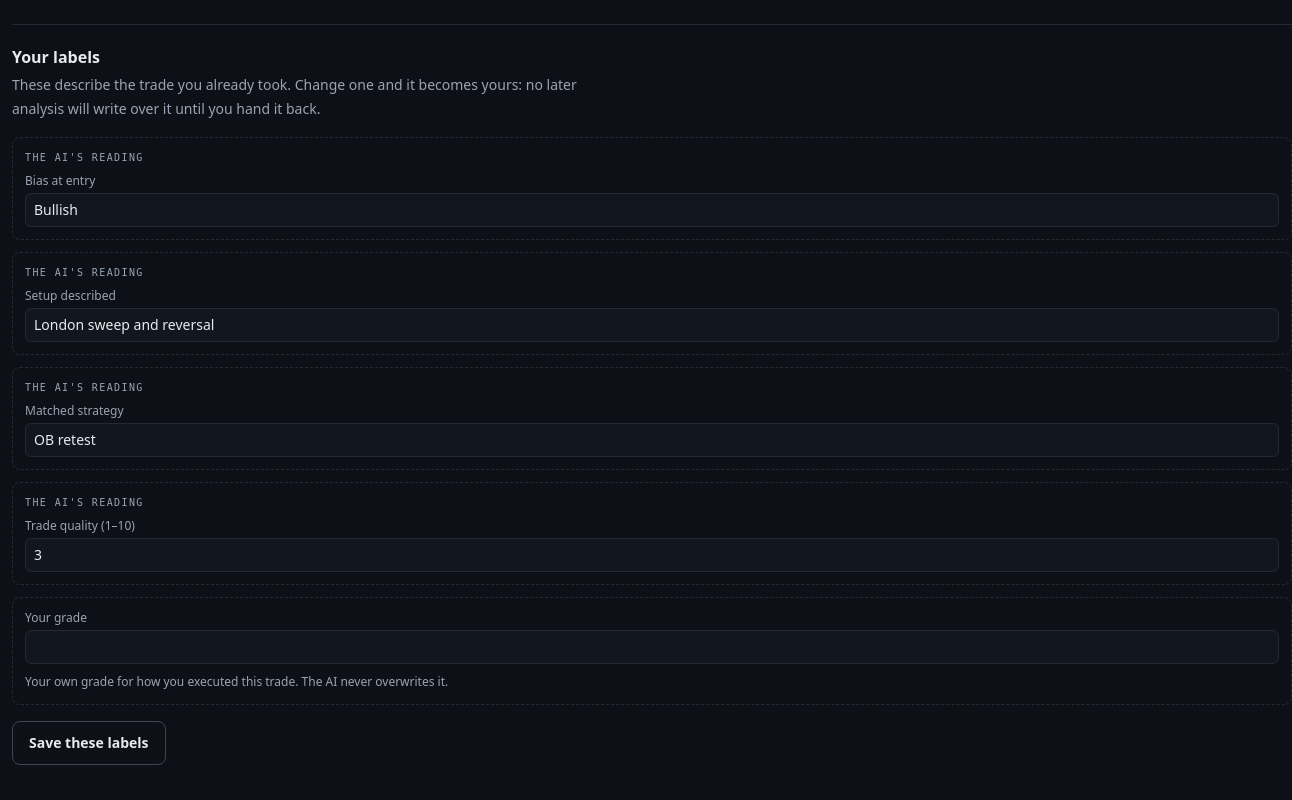
Scenario: AILabelReview › shows the backend's actionable conflict detail without exposing arbitrary errors
Step 1. Replace the text in the field labelled "Bias at entry" with "Bearish" → (652, 210), box [25, 193, 1279, 227]
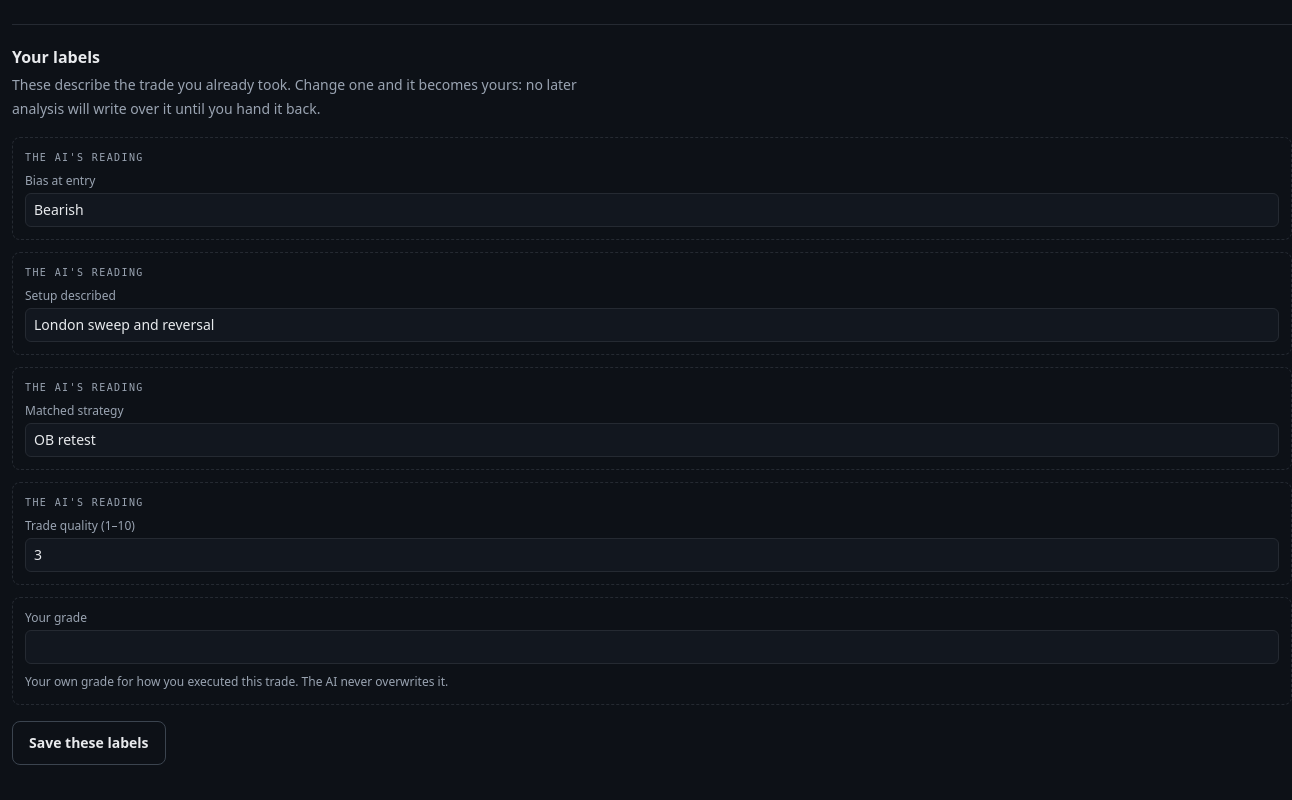
Step 2. Click the button "Save these labels" → (89, 743), box [12, 721, 166, 765]
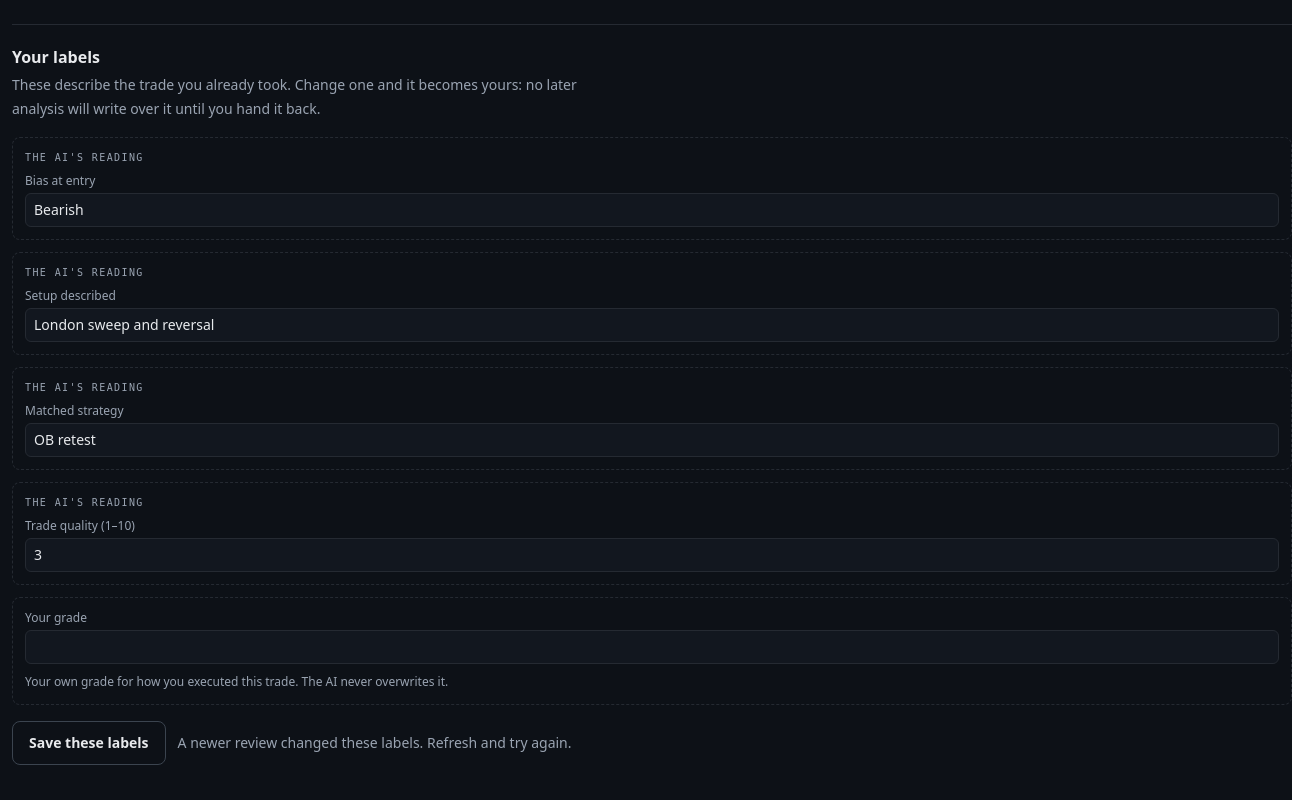
expect the text "A newer review changed these labels. Refresh and try again." is shown: met, box [178, 731, 572, 755]
